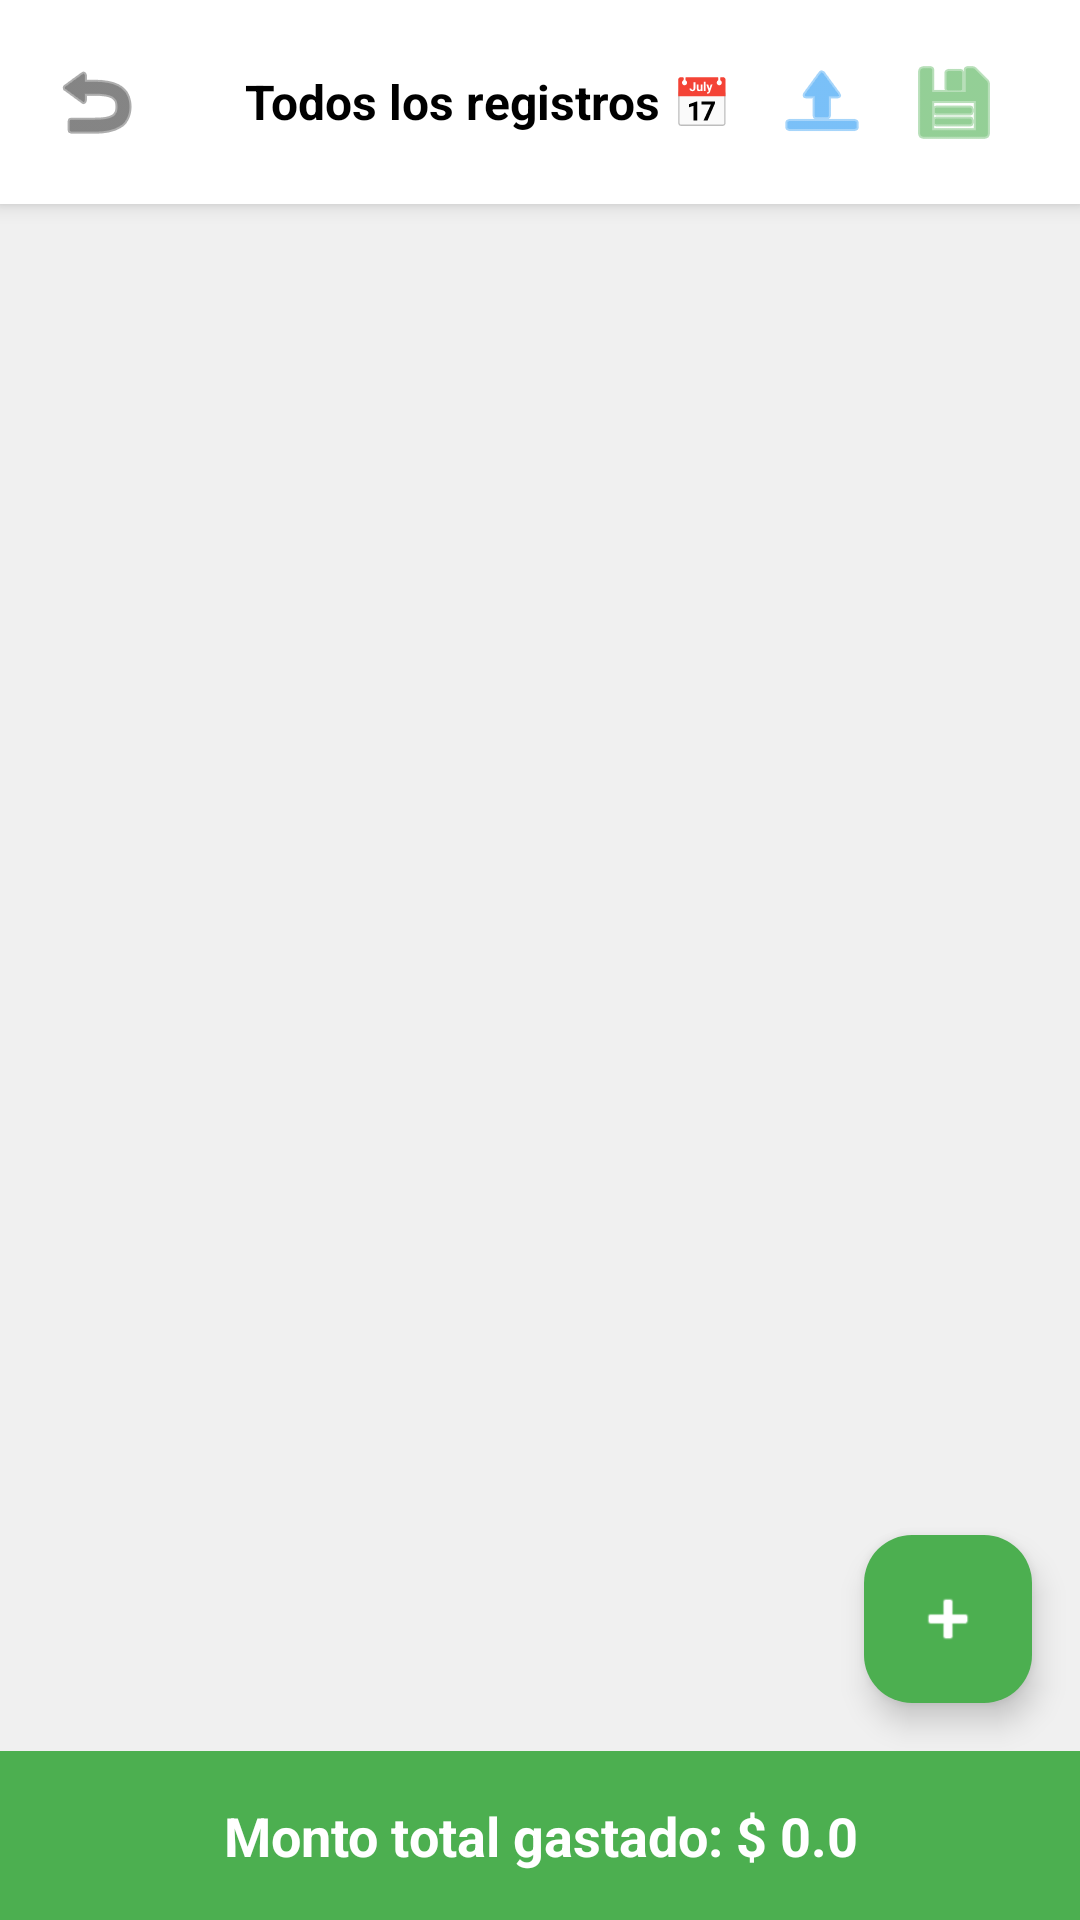

Screen size 1080x1920. Icon name, then its center in pixels as (x=x, y=y):
add: (x=948, y=1619)
revert: (x=97, y=102)
save: (x=954, y=102)
upload: (x=822, y=100)
